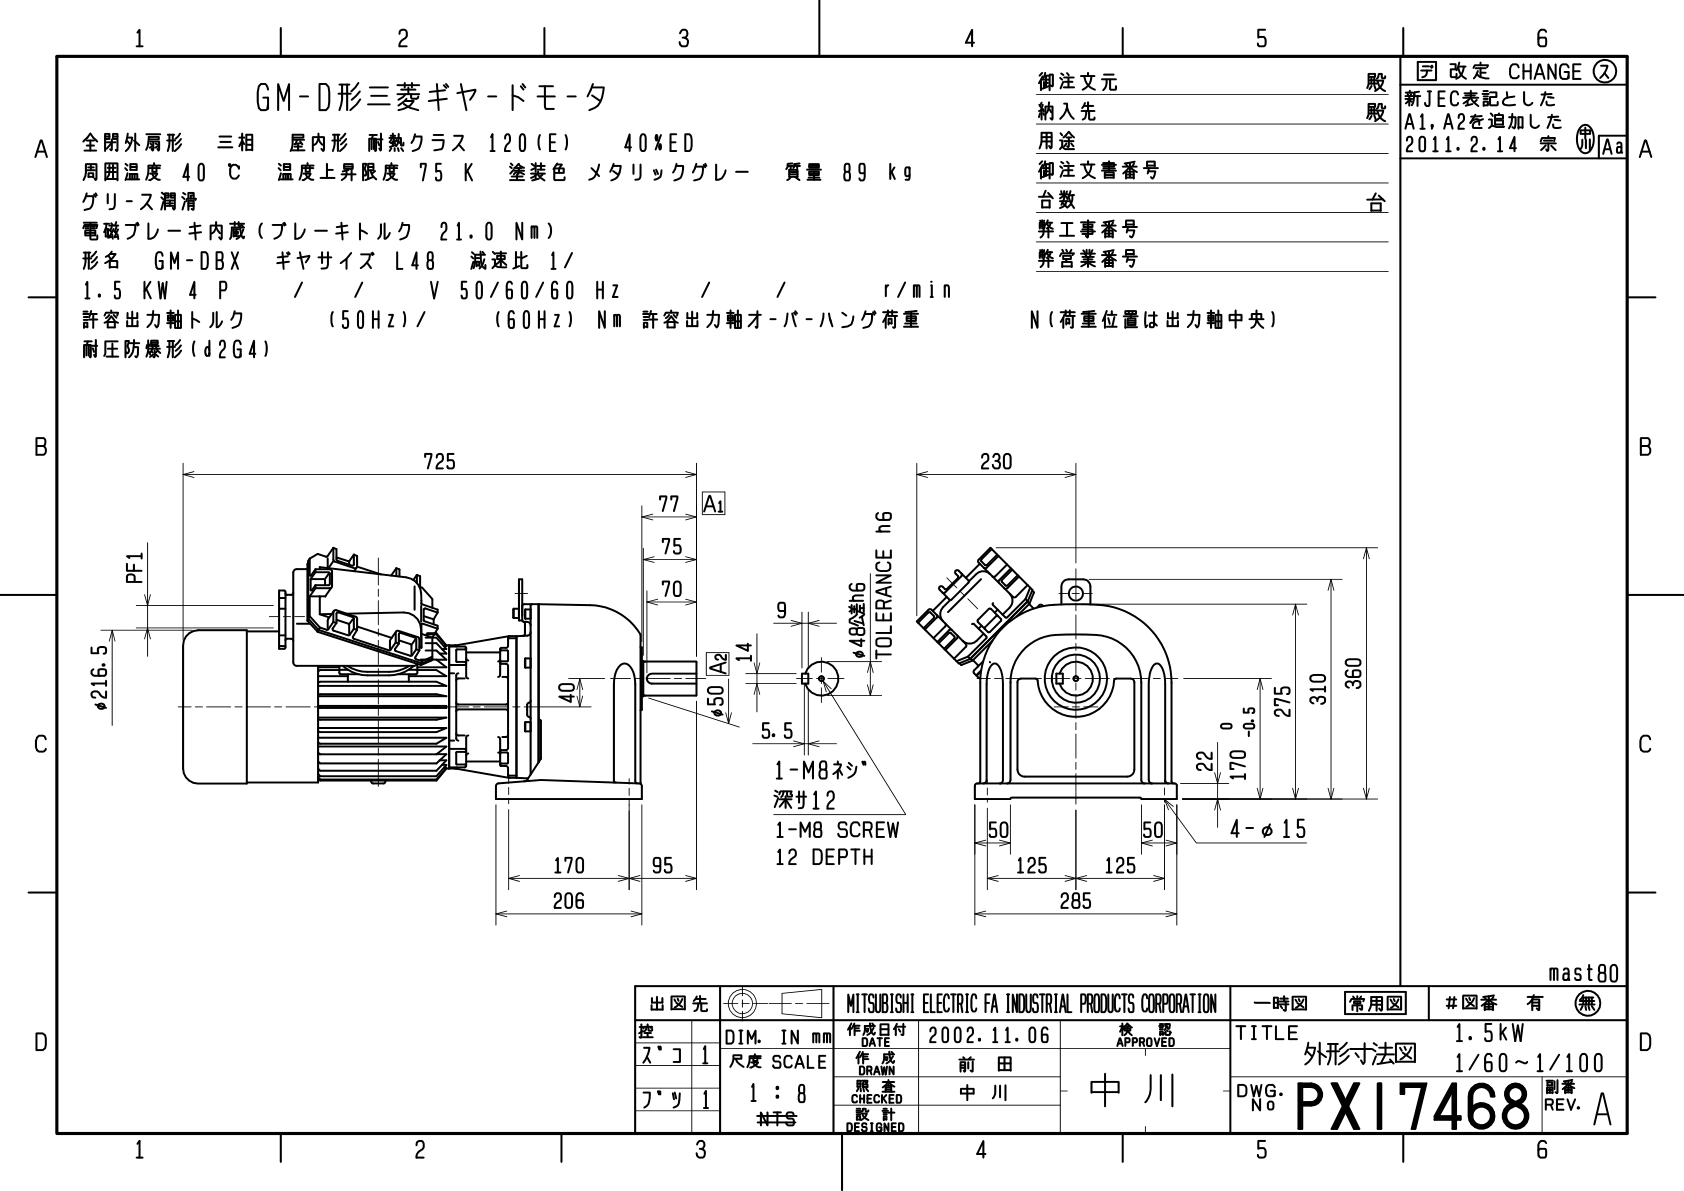GM_D_耐圧屋内_三相_脚: (67, 431, 1389, 951)
